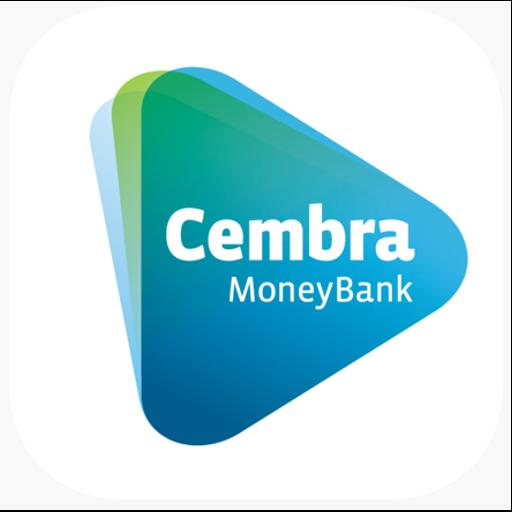Cembra Money Bank AG: (0, 1, 511, 510)
